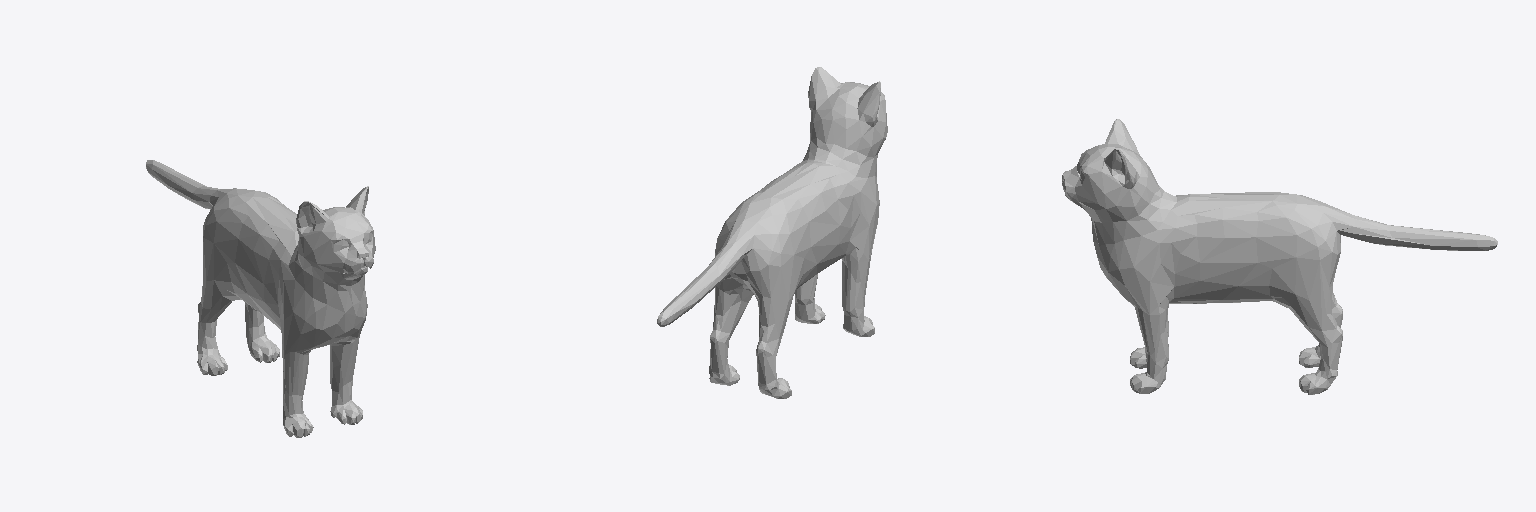
Rendered from cat_l25.obj.
3 views of the same model, side by side, from view 1: azimuth 30°, elevation 25°; view 2: azimuth 150°, elevation 25°; view 3: azimuth 270°, elevation 25° (orthographic).
Parts seen in each view (by area): view 1: 12221_Cat_v1_l3.001; view 2: 12221_Cat_v1_l3.001; view 3: 12221_Cat_v1_l3.001.
Part boxes in pixels (left/top/right/bottom): 12221_Cat_v1_l3.001: left=146, top=160, right=375, bottom=437; 12221_Cat_v1_l3.001: left=657, top=67, right=887, bottom=398; 12221_Cat_v1_l3.001: left=1062, top=119, right=1497, bottom=394.
Bounding box in the file's own units: 0.6262 × 1.88 × 3.04.